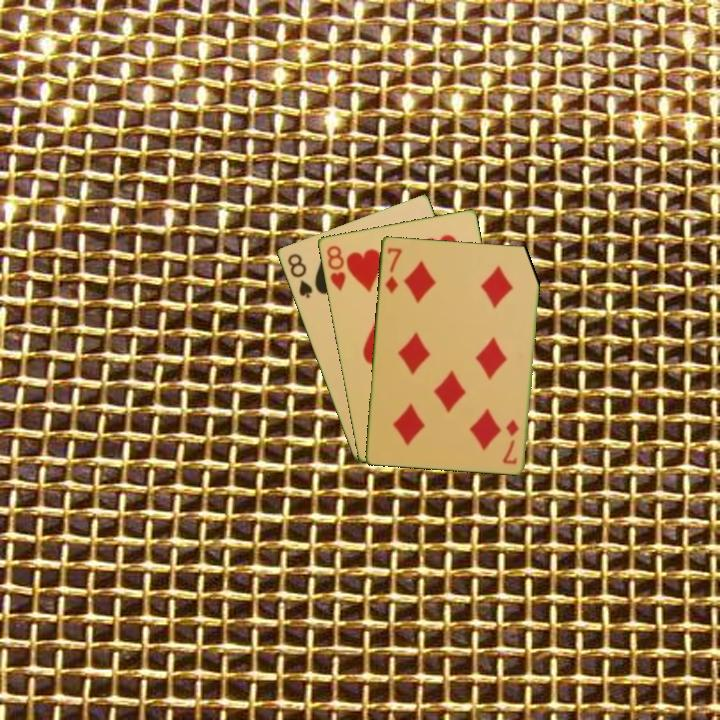7d: (382, 244, 404, 296), (500, 415, 521, 467)
8h: (323, 242, 348, 294)
8s: (283, 250, 315, 301)
